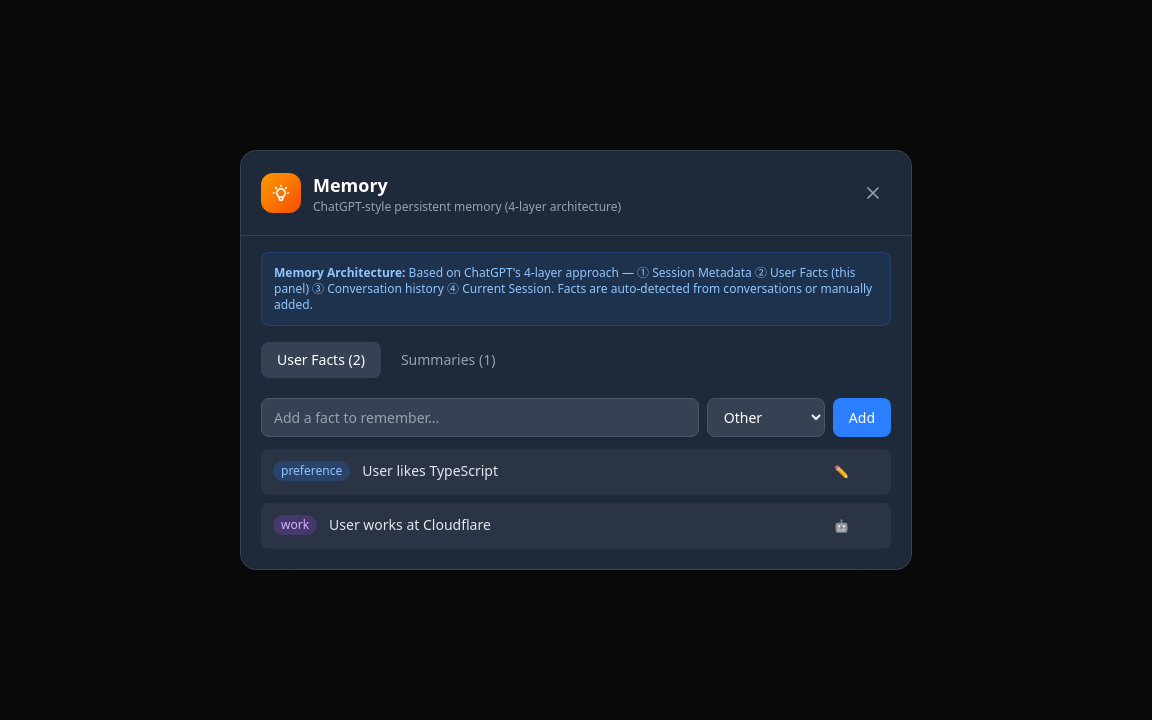
Scenario: MemoryPanel › should switch to summaries tab
Click the button "Summaries (1)": [448, 360] box x1=385 y1=342 x2=511 y2=378
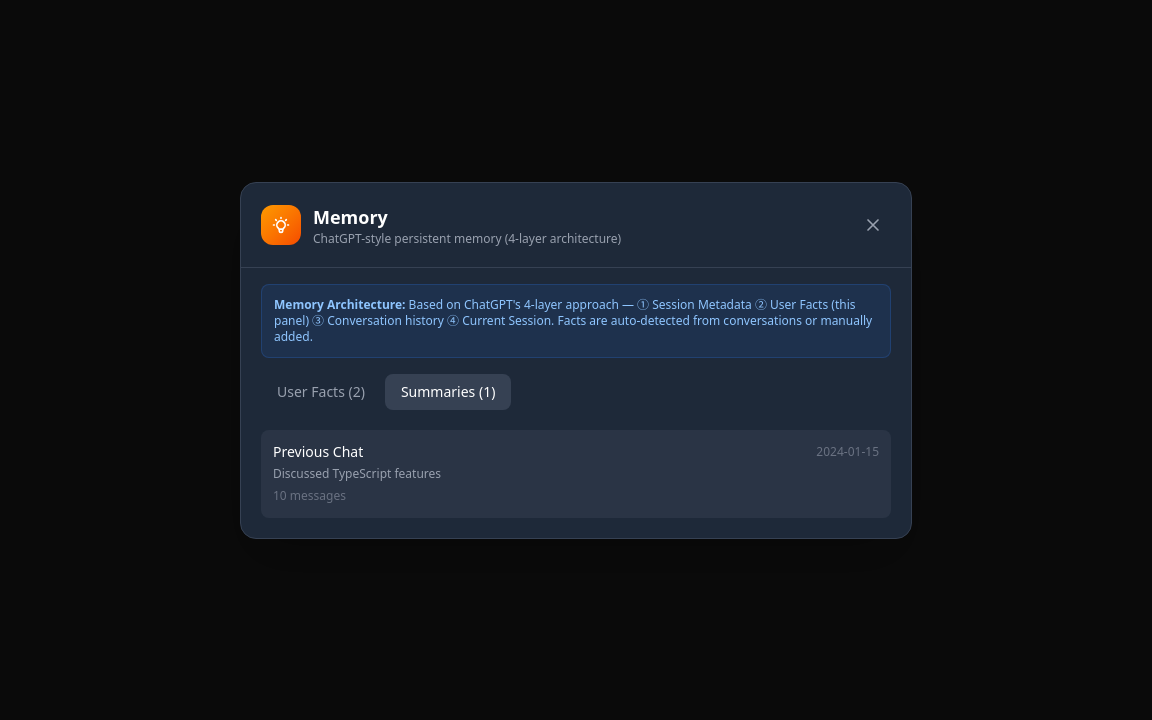
Expected: the heading "Previous Chat" is shown, x1=273 y1=442 x2=363 y2=462
Expected: the text "Discussed TypeScript features" is shown, x1=273 y1=464 x2=441 y2=482
